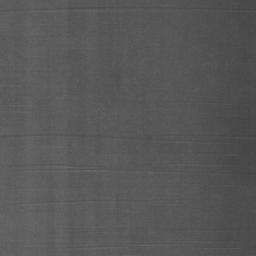Waist folding: (0, 3, 239, 14), (0, 163, 165, 176), (0, 133, 96, 138), (52, 199, 125, 203), (140, 243, 168, 248)
